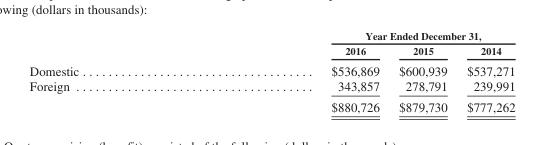table: (28, 28, 514, 113)
table column: (204, 28, 388, 113), (28, 28, 204, 113), (388, 28, 456, 113), (456, 28, 514, 113)
table column header: (28, 28, 514, 59)
table row: (28, 59, 514, 78), (28, 78, 514, 96), (28, 42, 514, 59), (28, 96, 514, 113), (28, 28, 514, 42)
table spanning cell: (204, 28, 514, 42)
